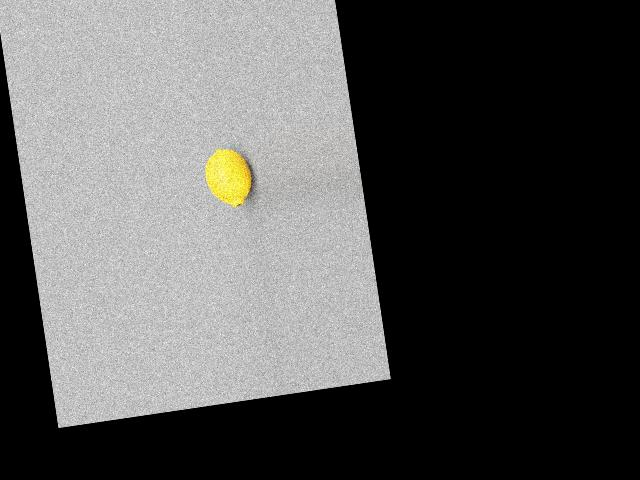lemon: (197, 139, 257, 225)
